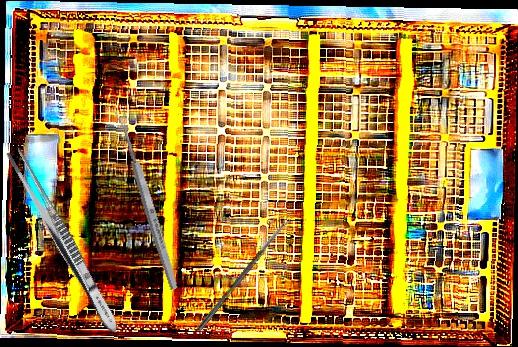Dressing Forceps: (2, 145, 125, 337)
Surgical Spoon: (113, 108, 181, 291), (195, 214, 294, 334)
